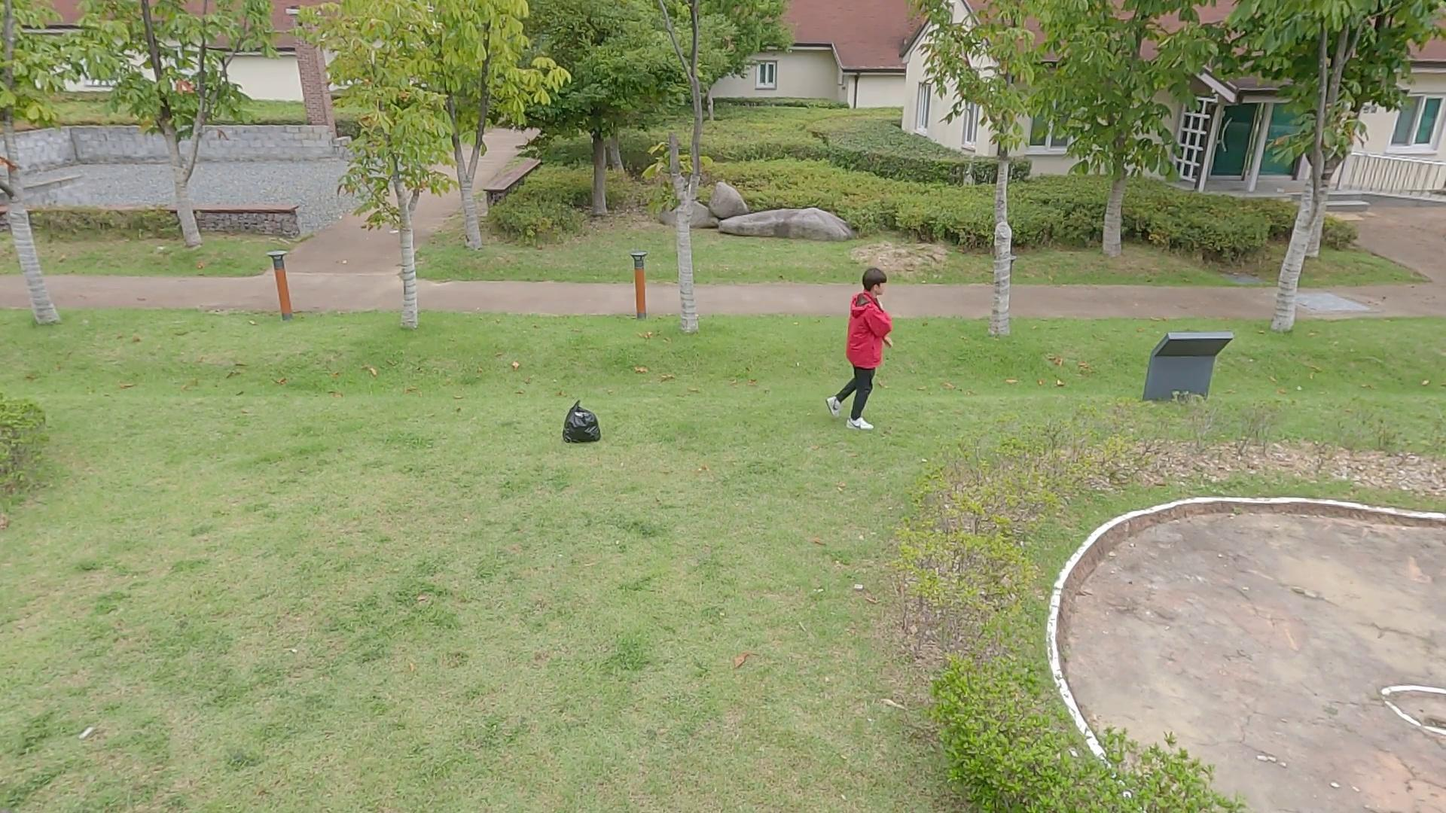person: (824, 264, 897, 434)
trash: (561, 399, 603, 445)
